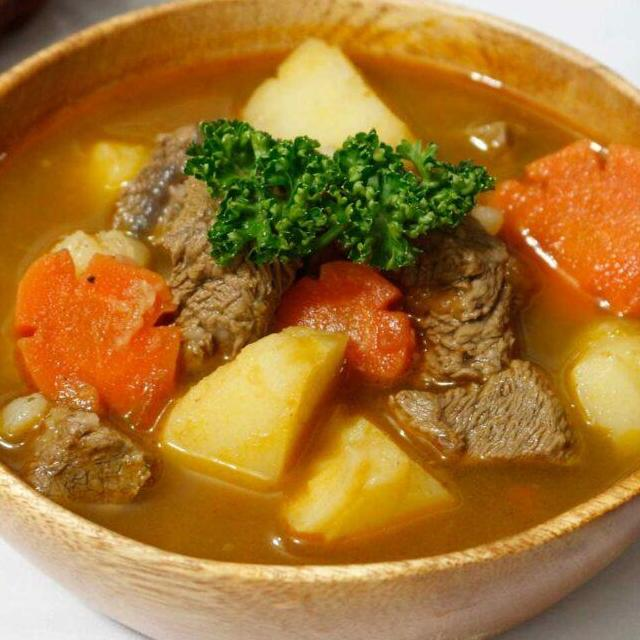thit bo: (145, 170, 312, 382), (373, 202, 537, 400), (372, 354, 591, 478), (20, 396, 159, 526)
